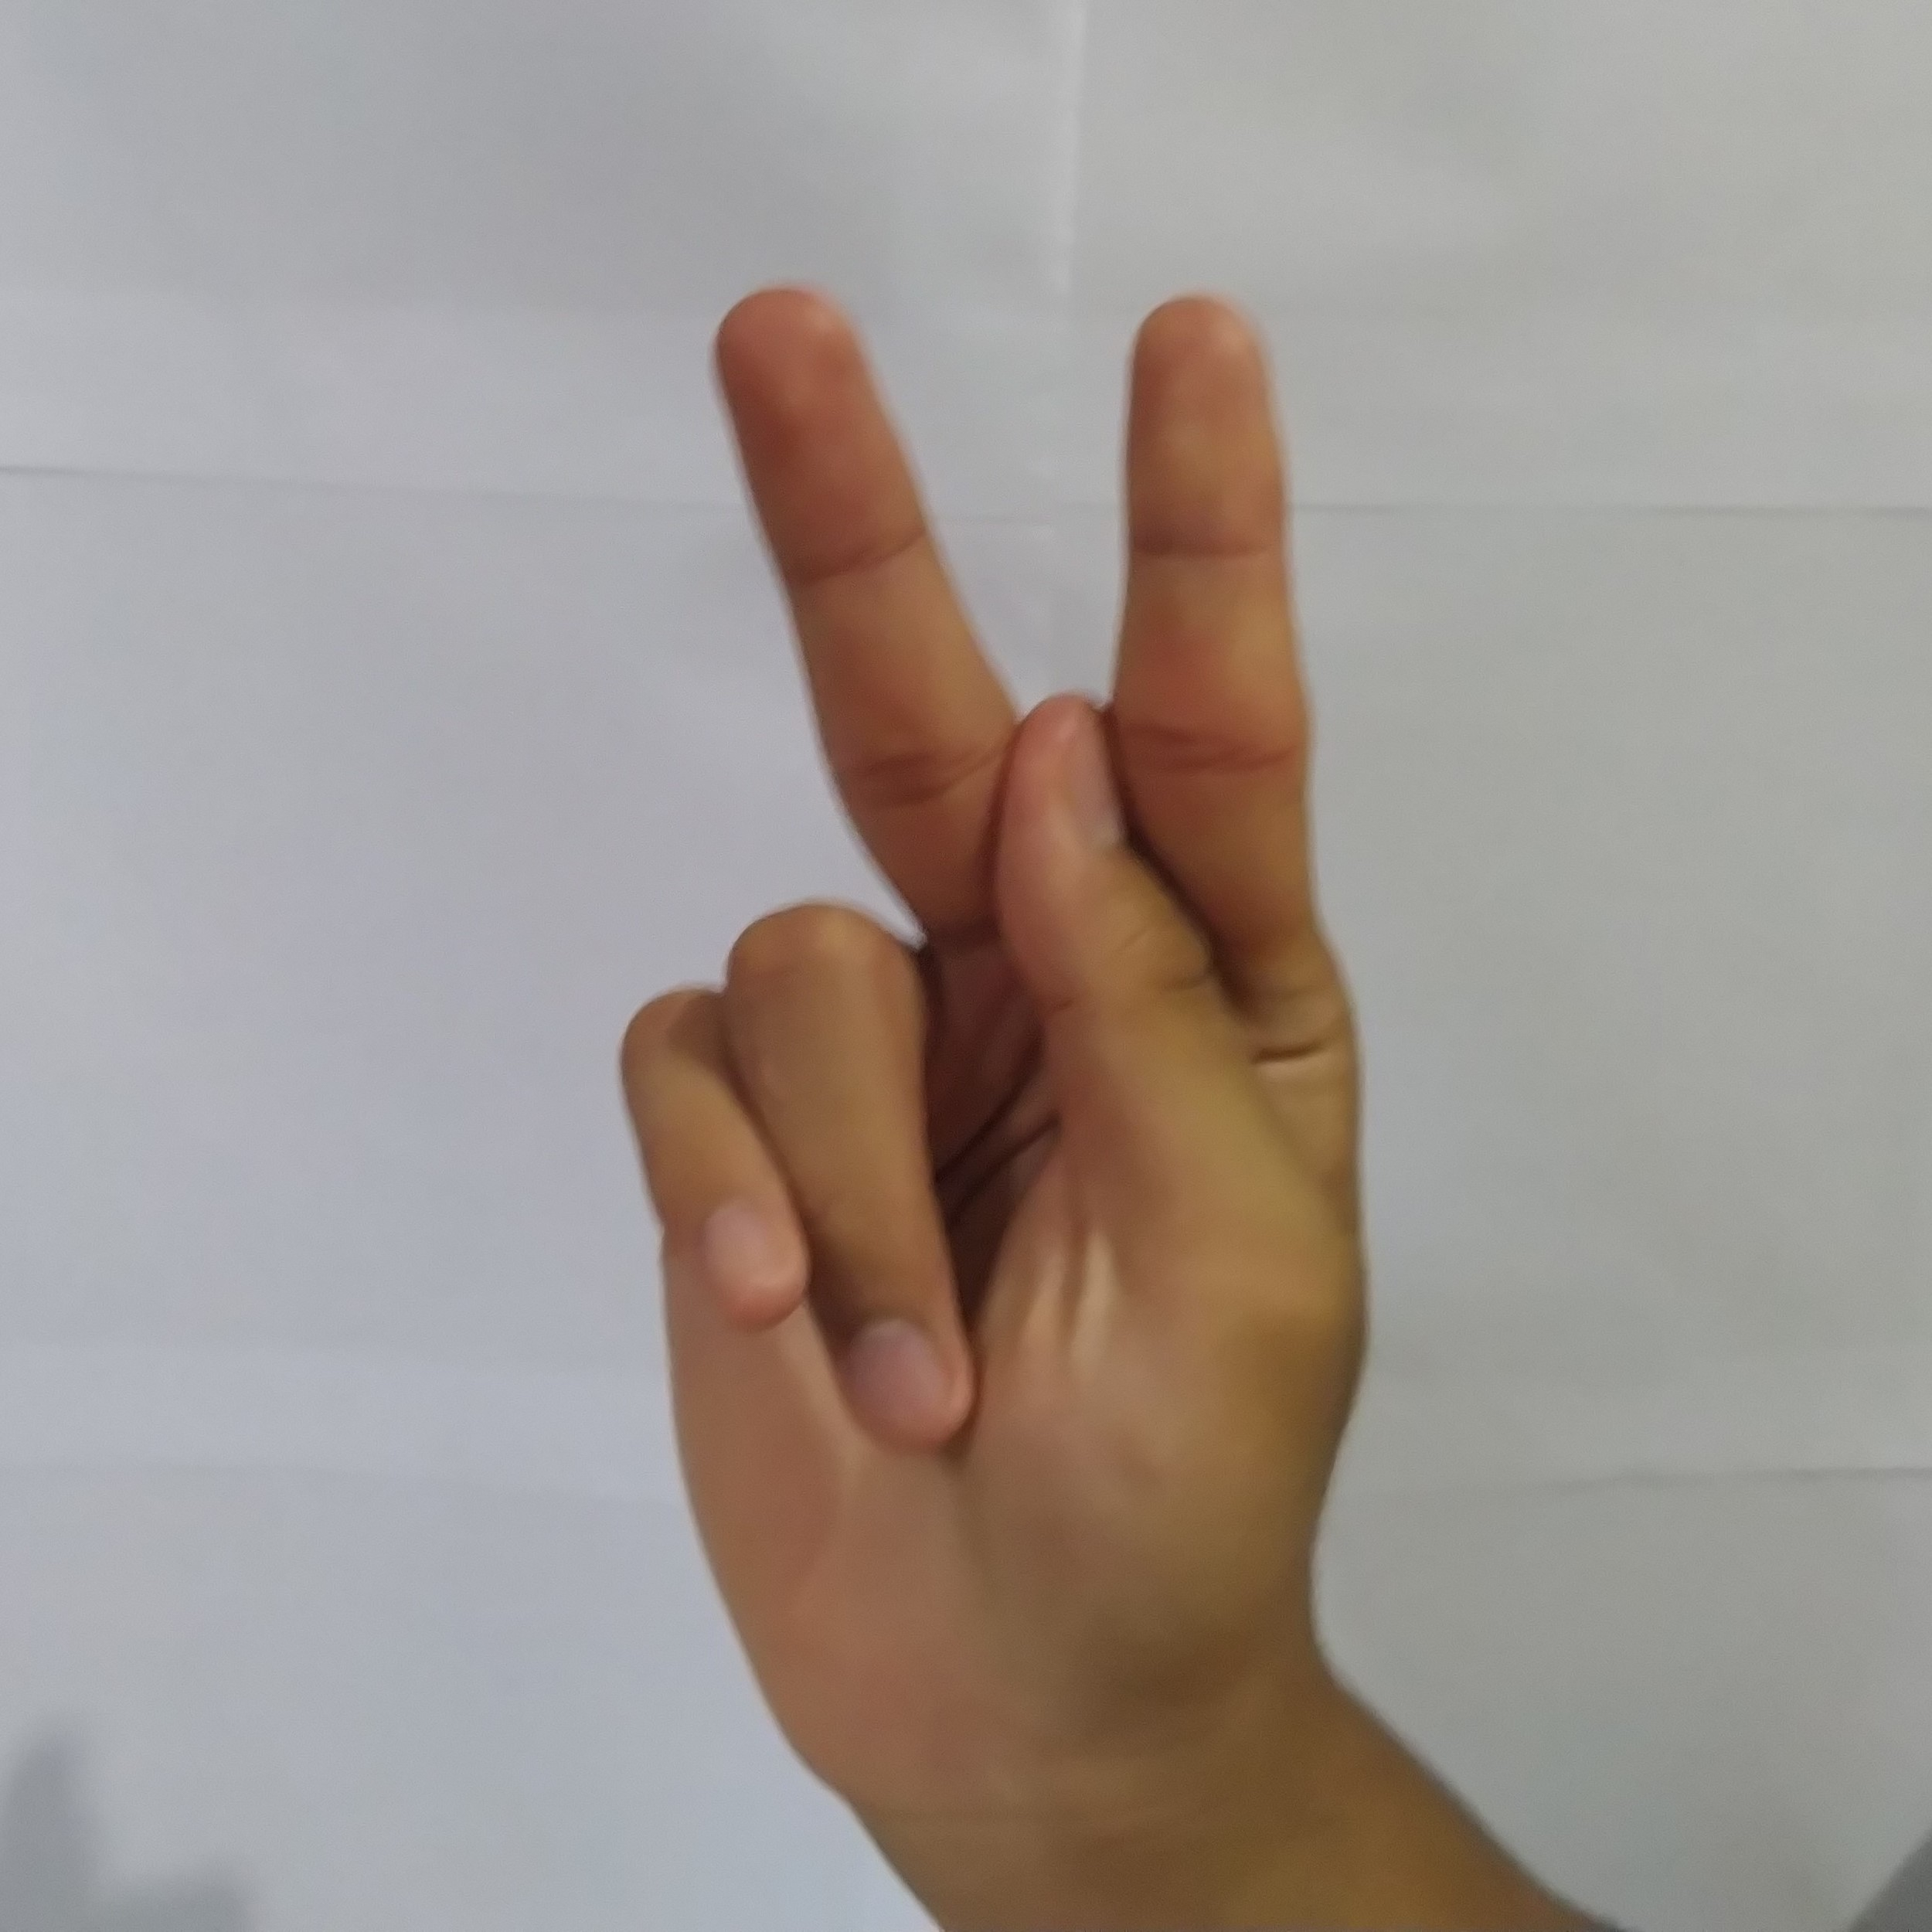K: (596, 260, 1394, 1652)
